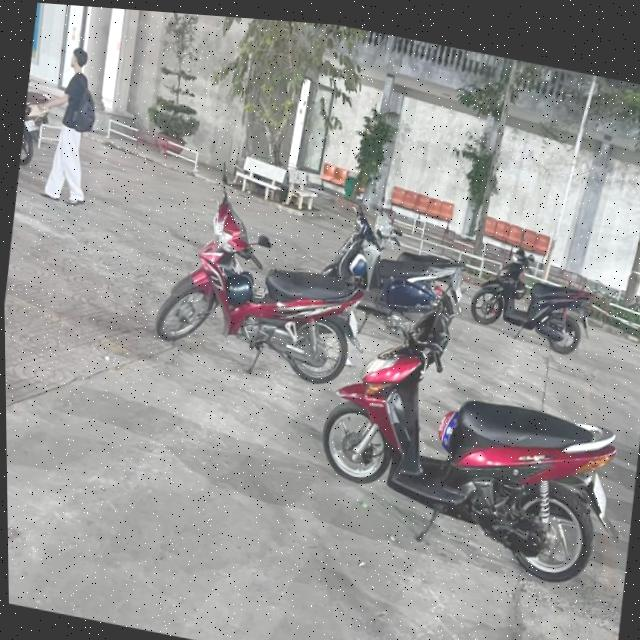motorcycle: (303, 268, 640, 600), (147, 185, 383, 396), (464, 236, 609, 363), (18, 99, 47, 173)
